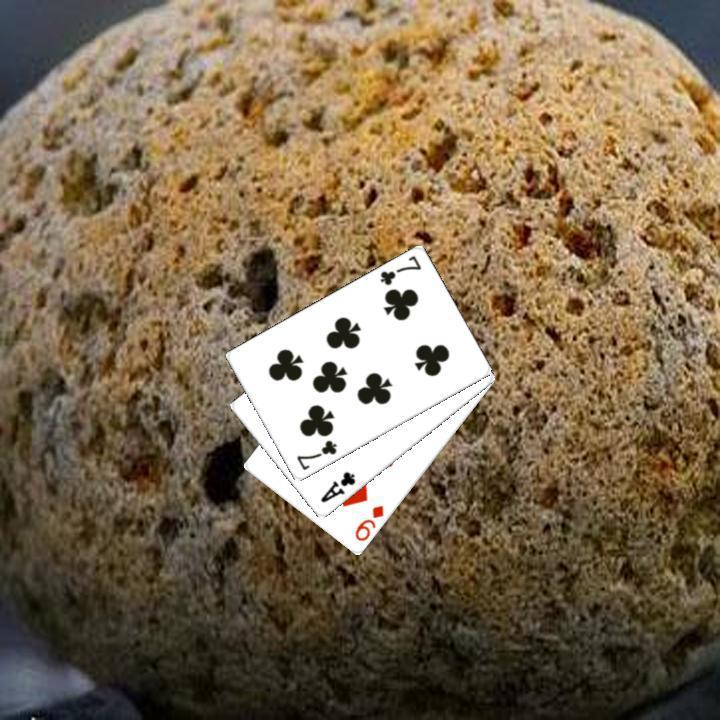7: (375, 251, 423, 288), (292, 436, 339, 472)
9: (350, 501, 386, 544)
A: (316, 467, 358, 505)
